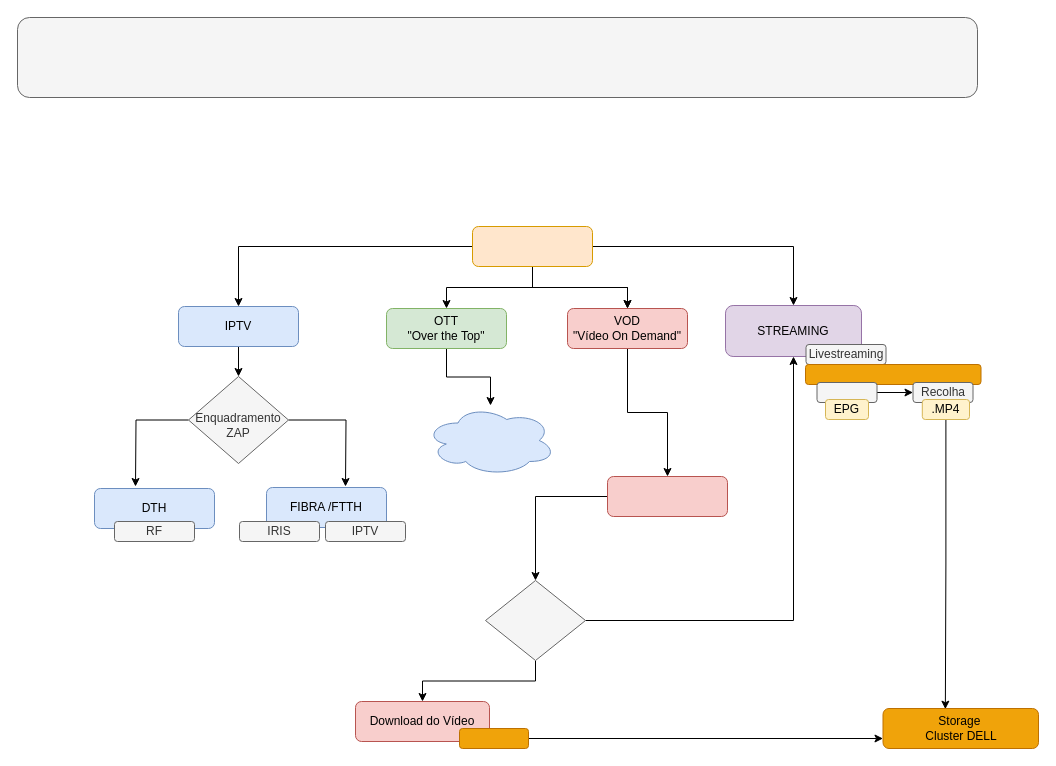
Some shapes in this 1056 by 766 pixel diagram are drawn without their labels. Here are the shapes that lost their labels. From the top down, the centre of each, then its label:
pixel 497 57: DIAGRAMA "TECNOLOGIAS DE MÍDIA - INTERNET " No enquadramento ZAP
pixel 532 246: Tecnologias de Mídia "INTERNET"
pixel 846 392: Gravação
pixel 892 374: WOWZA Transcoding Farm
pixel 490 440: Canal Cliente
pixel 667 496: Gestão de Conteúdo "NORDIJA"
pixel 535 620: Exibição
pixel 493 738: CND Farm
